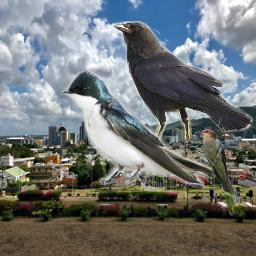Crow: (112, 21, 253, 143)
Cuckoo: (195, 129, 241, 216)
Swallow: (60, 68, 218, 189)
